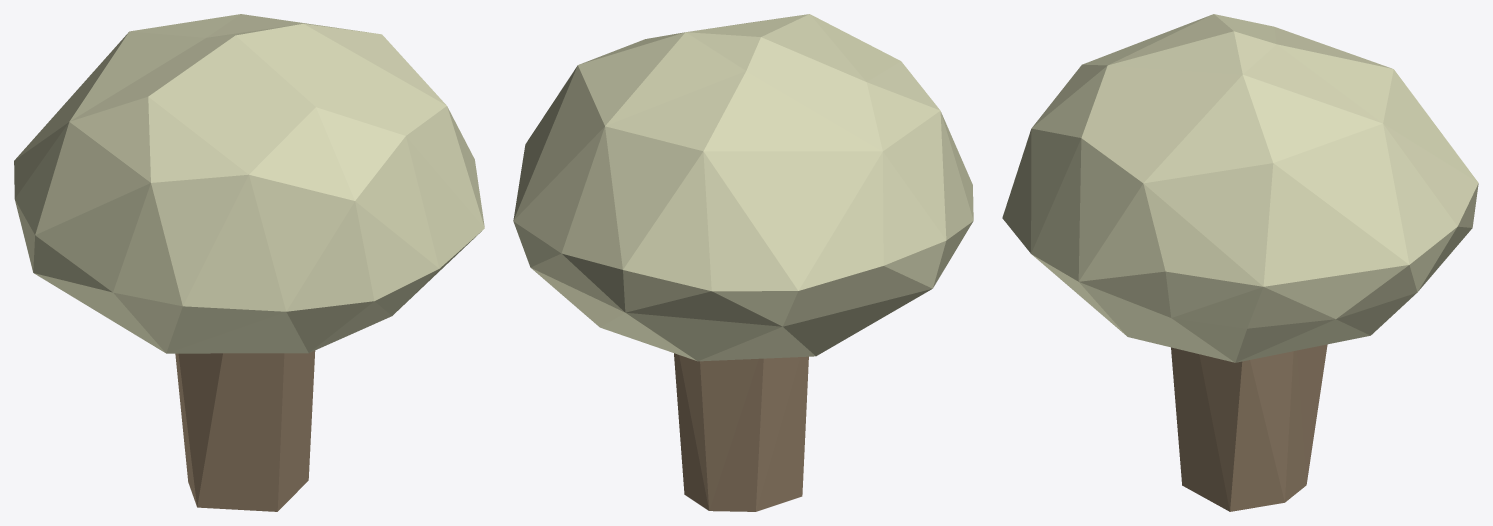
The model's file is Button Mushroom.fbx.
3 views of the same model, side by side, from view 1: azimuth 30°, elevation 25°; view 2: azimuth 150°, elevation 25°; view 3: azimuth 270°, elevation 25° (orthographic). The views are drawn at different scales.
Visible parts, largest first — view 1: Button Mushroom; view 2: Button Mushroom; view 3: Button Mushroom.
Part boxes in pixels (x1,y1,x2,y2): Button Mushroom: (14, 14, 484, 511); Button Mushroom: (513, 14, 973, 511); Button Mushroom: (1002, 14, 1478, 511).
Size of the model in its own units: 4.36 by 4.56 by 4.41.
